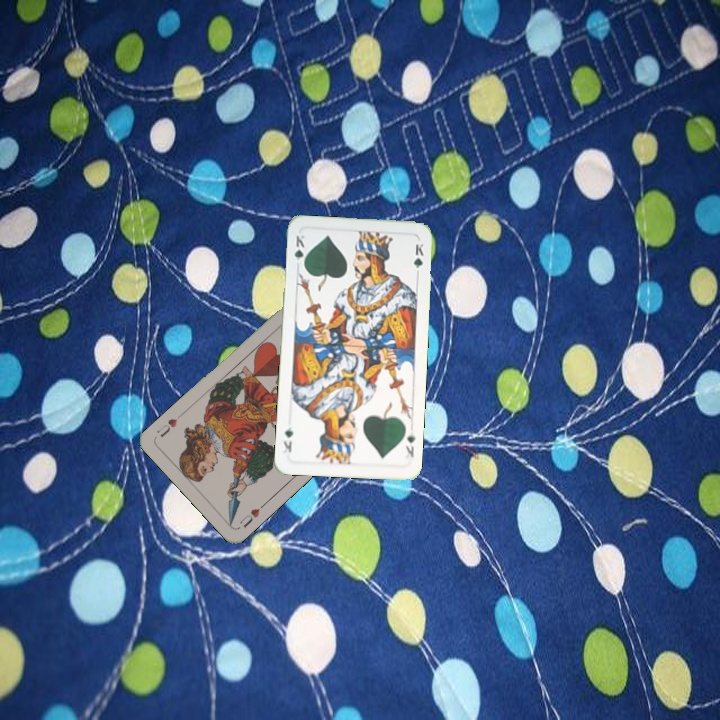GK: (291, 231, 307, 270), (401, 427, 418, 460)
HU: (235, 499, 268, 531)
